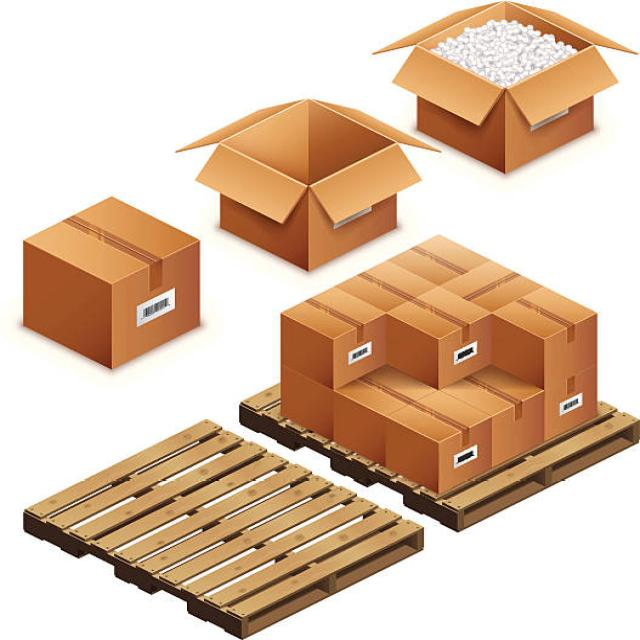Wooden-Pallets: (3, 400, 434, 639), (227, 400, 640, 541)
